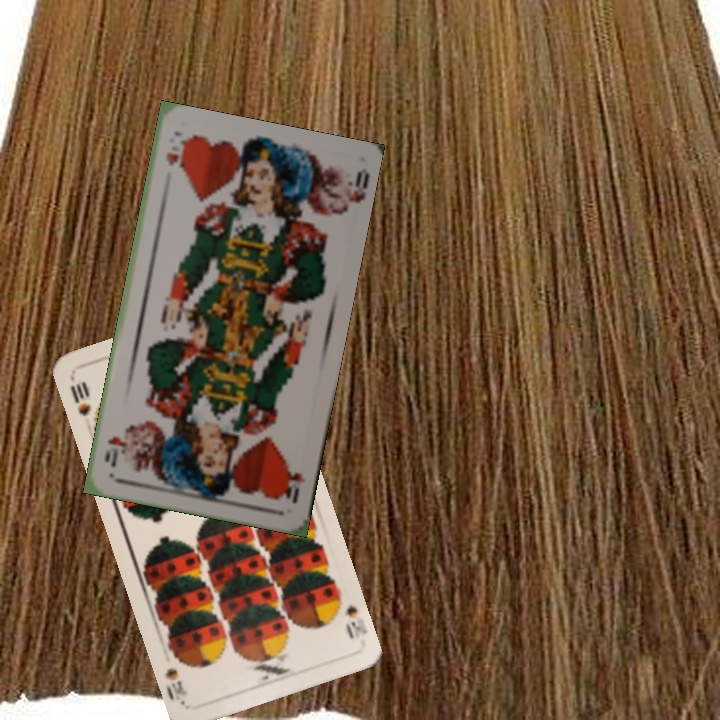HO: (278, 460, 309, 506), (162, 135, 188, 170)
S10: (333, 590, 370, 641), (66, 377, 94, 419)
